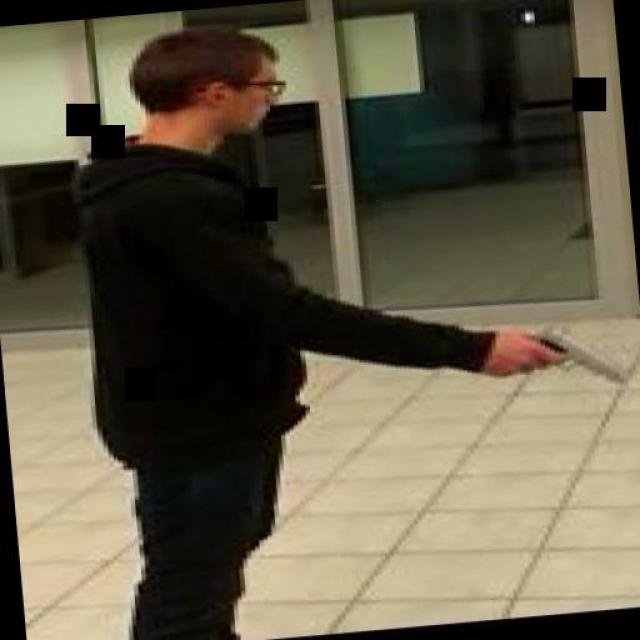gun: (498, 317, 624, 393)
